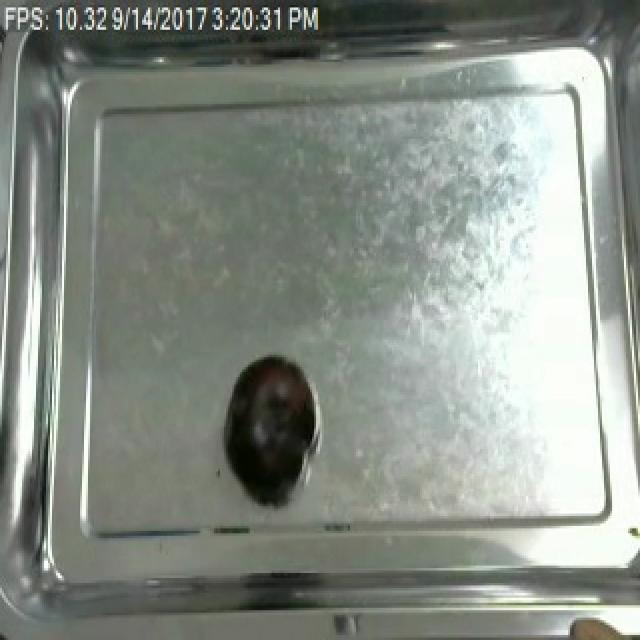Fruit: (224, 349, 318, 488), (558, 610, 640, 640)
